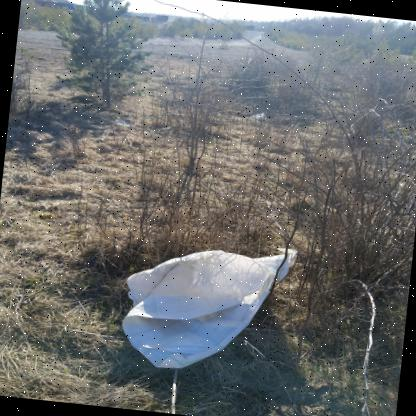Other plastic bottle: (251, 112, 266, 119)
Polypropylene bag: (122, 248, 297, 368)
